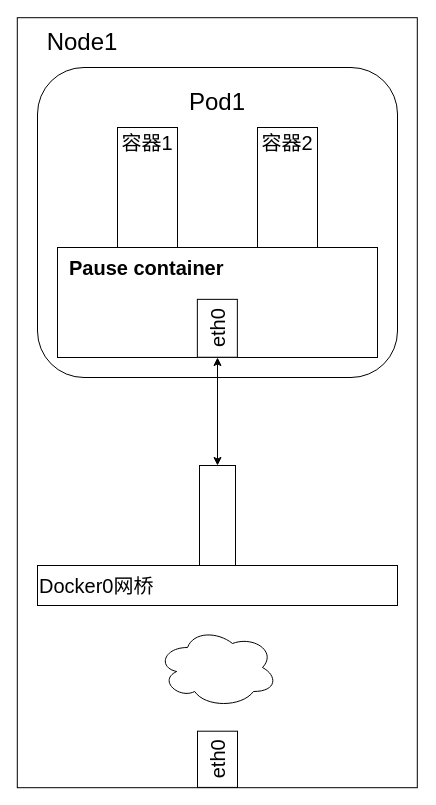
The diagram is 436 pixels wide and 805 high, and some of its shapes have lost their labels. The centre of each missing label's shape, as x and y in pixels:
"ethXXX" goes at (x=217, y=515).
"路由" goes at (x=217, y=667).
